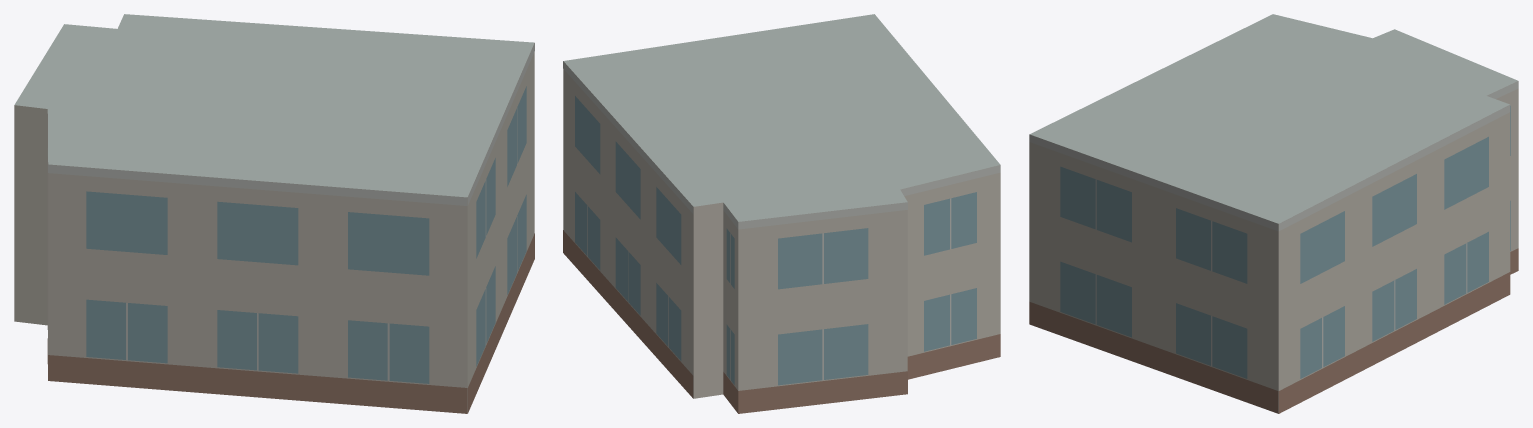
Rendered from survey-upis-32890656.glb.
The picture shows the model from 3 angles, left to right: view 1: azimuth 30°, elevation 25°; view 2: azimuth 150°, elevation 25°; view 3: azimuth 270°, elevation 25°; orthographic projection. The views are drawn at different scales.
Visible parts, largest first — view 1: survey-upis-32890656.tmp; view 2: survey-upis-32890656.tmp; view 3: survey-upis-32890656.tmp.
Part boxes in pixels (x1,y1,x2,y2): survey-upis-32890656.tmp: (14,14,534,413); survey-upis-32890656.tmp: (563,14,1000,413); survey-upis-32890656.tmp: (1029,14,1518,413).
Bounding box in the file's own units: 14.46 × 6.1 × 14.24.
